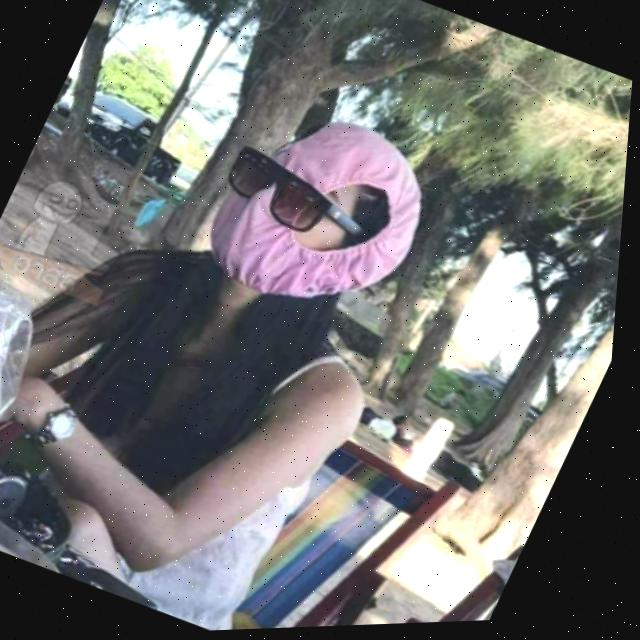Mask: (185, 130, 415, 333)
